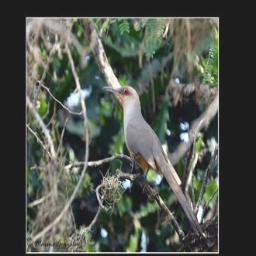Cuckoo: (101, 83, 206, 241)
